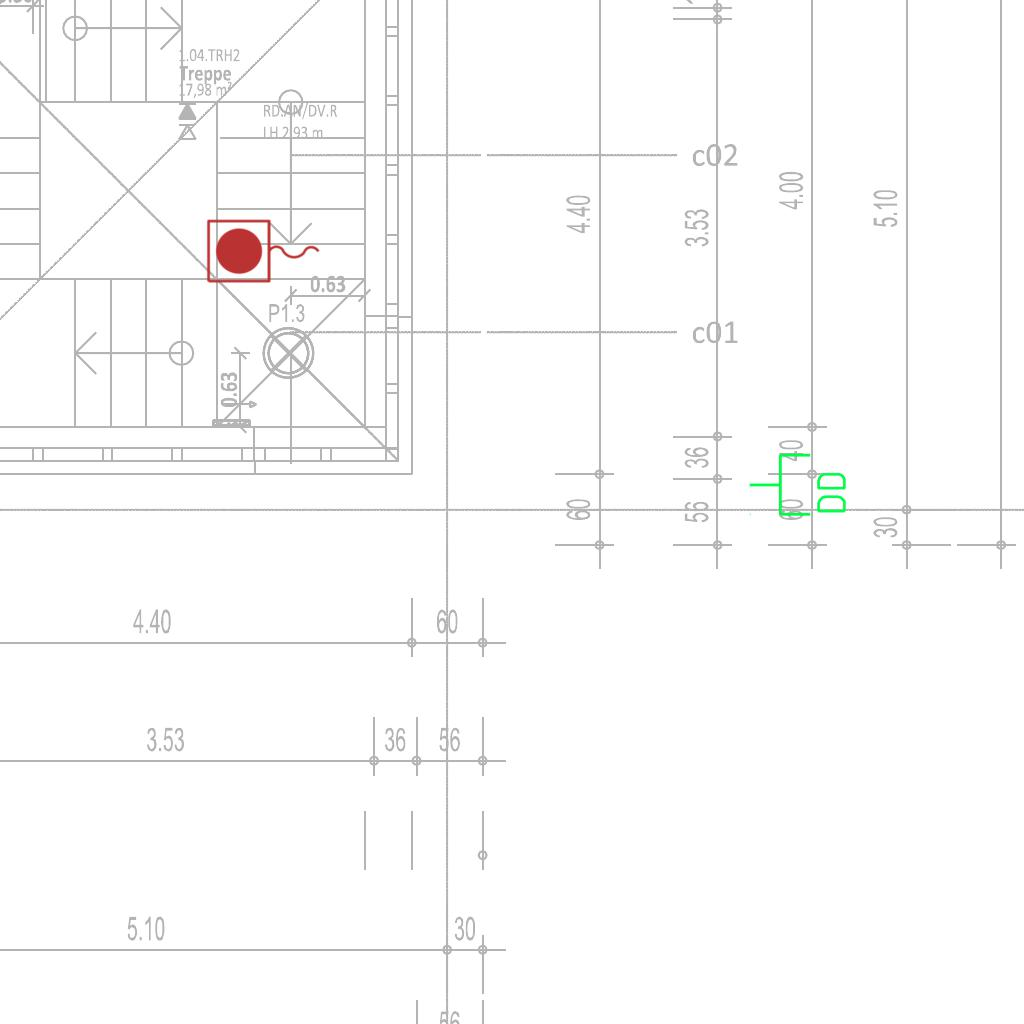Datenanschluss_zweifach: (747, 451, 850, 520)
Zugtaster: (203, 216, 325, 288)
